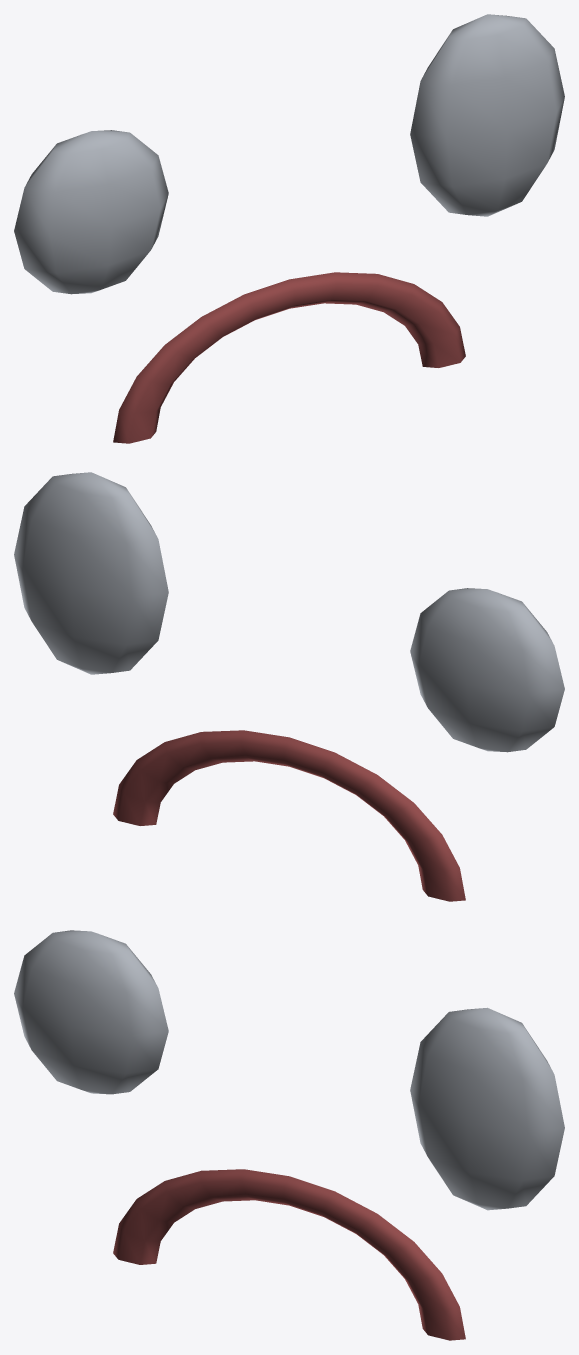
Rendered from blacksmith_face.glb.
3 views of the same model, one above another, from view 1: azimuth 30°, elevation 25°; view 2: azimuth 150°, elevation 25°; view 3: azimuth 330°, elevation 25° (orthographic).
Visible parts, largest first — view 1: eye_r, eye_l, mouth; view 2: eye_r, eye_l, mouth; view 3: eye_r, eye_l, mouth.
Part boxes in pixels (box(x1,y1,x2,y2)): eye_r: box(410, 14, 564, 216); eye_l: box(14, 130, 168, 294); mouth: box(113, 272, 465, 443); eye_r: box(14, 472, 168, 674); eye_l: box(410, 588, 564, 752); mouth: box(113, 730, 465, 901); eye_r: box(410, 1007, 564, 1210); eye_l: box(14, 930, 168, 1094); mouth: box(113, 1169, 465, 1340).
Bounding box in the file's own units: 0.306 × 0.1788 × 0.0387.
